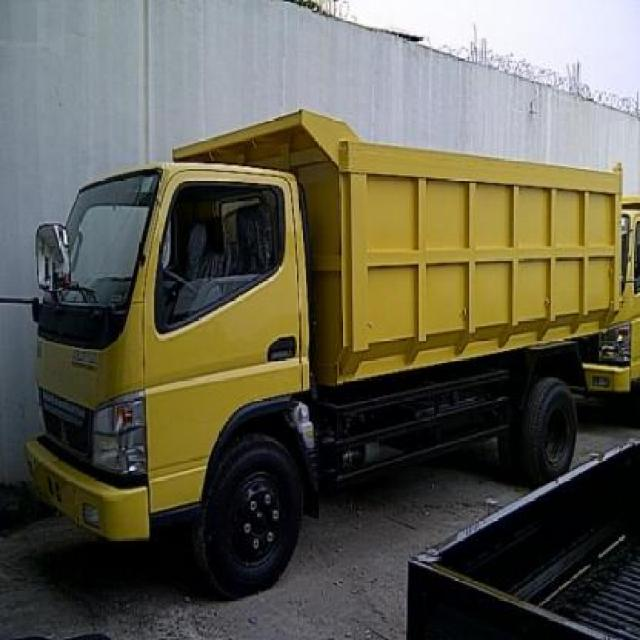truck: (25, 109, 625, 590)
